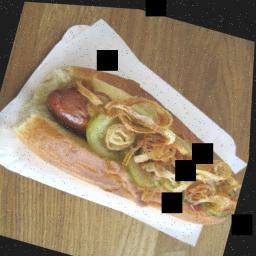hotdog: (4, 49, 254, 230)
